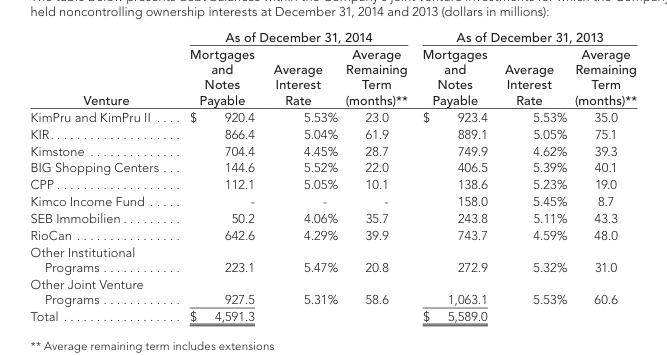table: (29, 29, 636, 323)
table column: (29, 29, 173, 323), (173, 29, 263, 323), (414, 29, 495, 323), (263, 29, 340, 323), (495, 29, 570, 323), (340, 29, 414, 323), (570, 29, 636, 323)
table column header: (29, 29, 636, 108)
table row: (29, 45, 636, 108), (29, 243, 636, 275), (29, 275, 636, 307), (29, 124, 636, 141), (29, 141, 636, 158), (29, 158, 636, 175), (29, 175, 636, 192), (29, 192, 636, 209), (29, 209, 636, 226), (29, 226, 636, 243), (29, 29, 636, 45), (29, 108, 636, 124), (29, 307, 636, 323)
table spanning cell: (29, 29, 173, 108), (173, 29, 414, 45), (414, 29, 636, 45)
